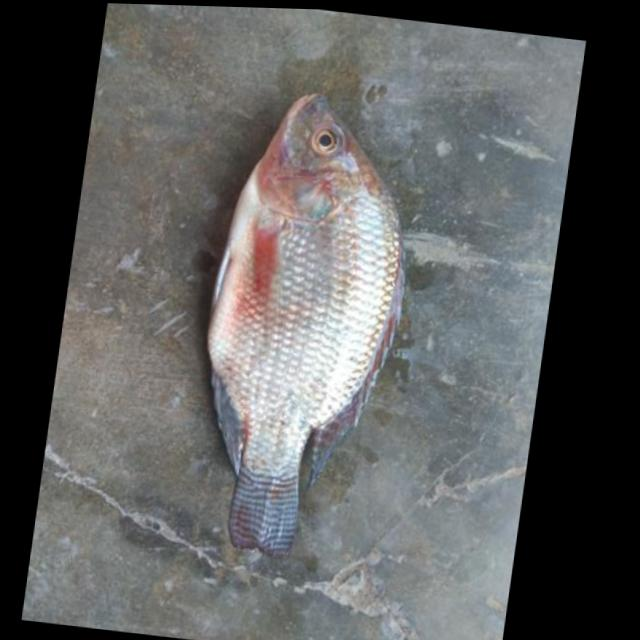Tilapia: (173, 83, 429, 569)
